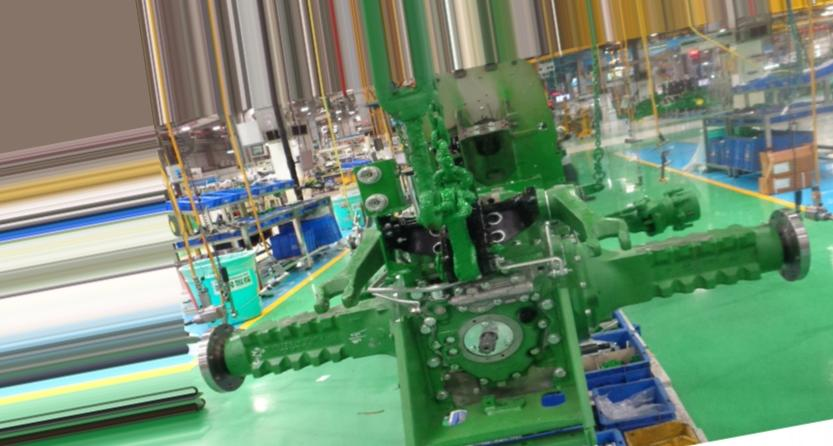engine: (196, 61, 809, 445)
